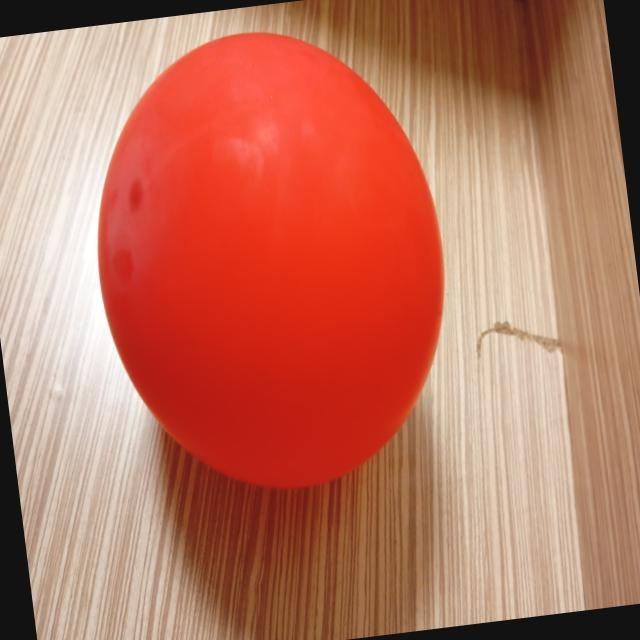balloon: (98, 32, 444, 487)
